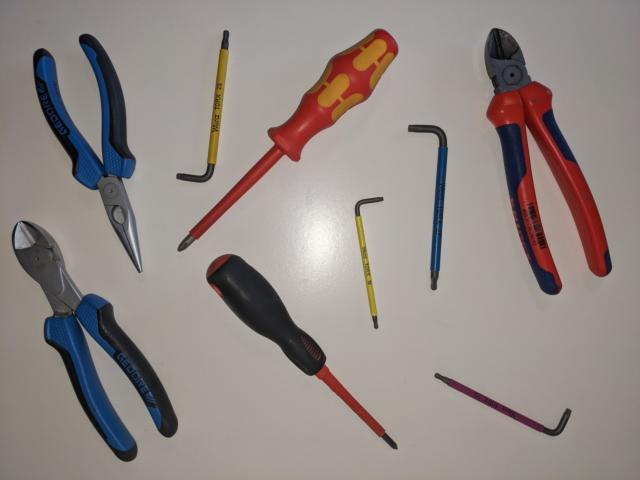Inbusschlüssel: (432, 370, 575, 438), (174, 27, 233, 185), (404, 121, 452, 292), (353, 192, 387, 331)
Schraubendreher: (173, 26, 401, 256), (204, 252, 400, 453)
Seitenschneider: (8, 218, 181, 464), (482, 25, 615, 297)
Zange: (31, 31, 147, 275)
